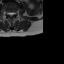CCS_normal: (10, 11, 12, 19)
LFS_normal: (14, 11, 16, 16)
LLS_normal: (12, 11, 14, 16)
RFS_normal: (6, 11, 8, 16)
RLS_normal: (8, 11, 10, 17)
